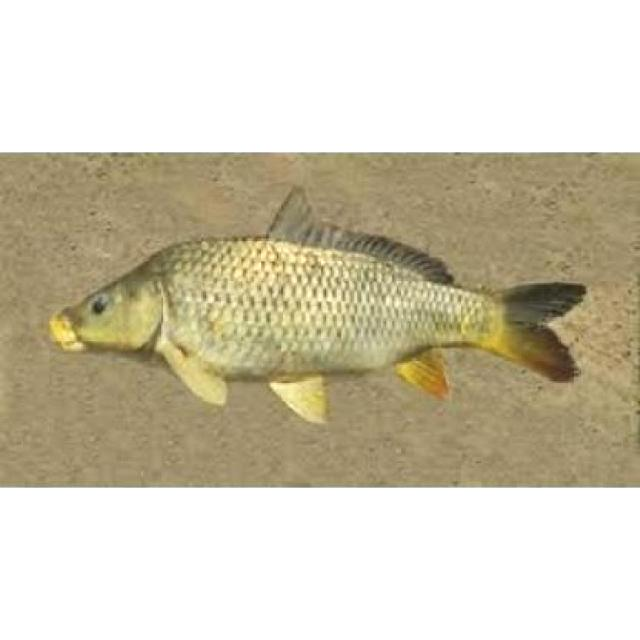ikan-mas: (44, 185, 584, 418)
